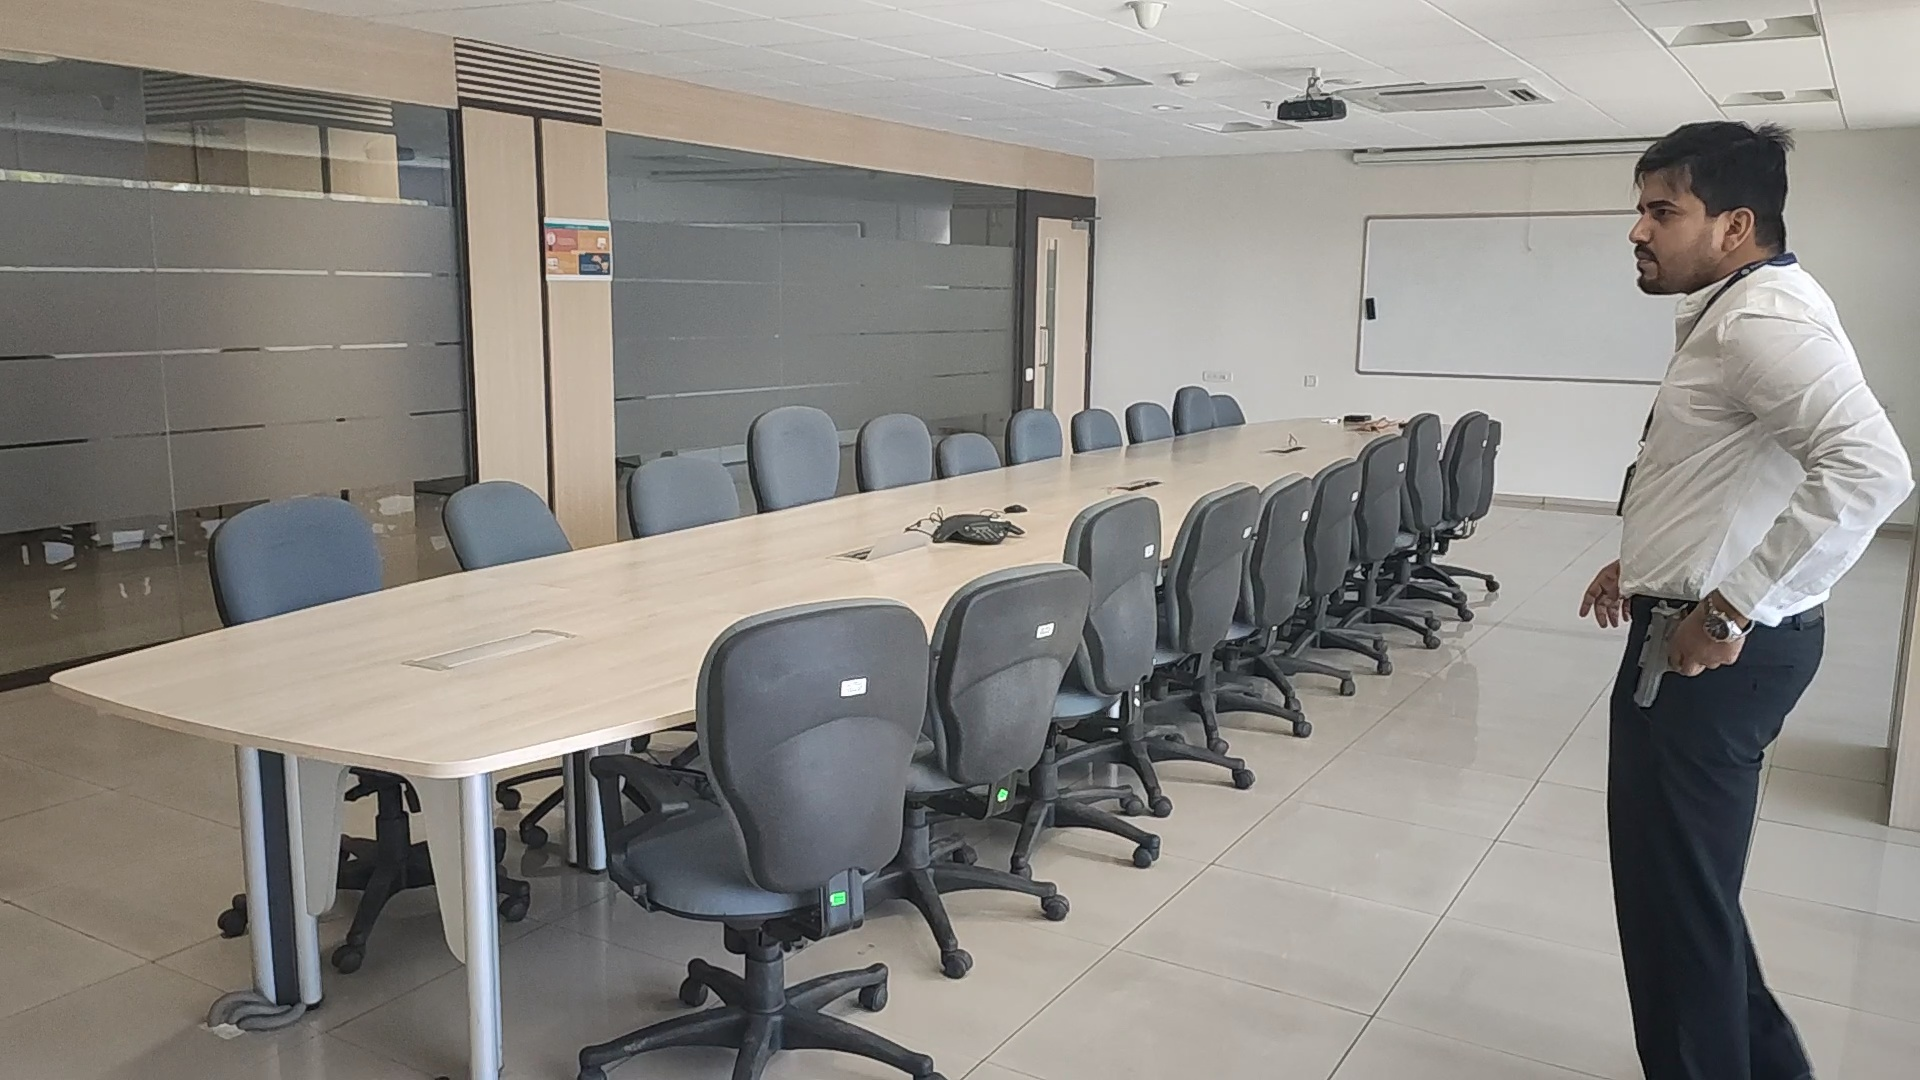gun: (1635, 599, 1688, 708)
